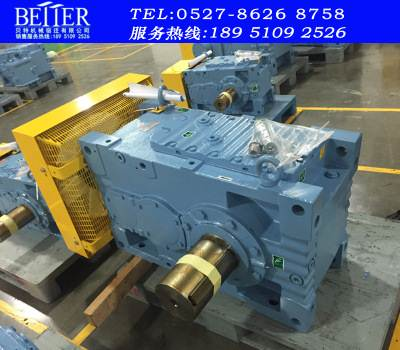oil: (287, 48, 362, 84)
